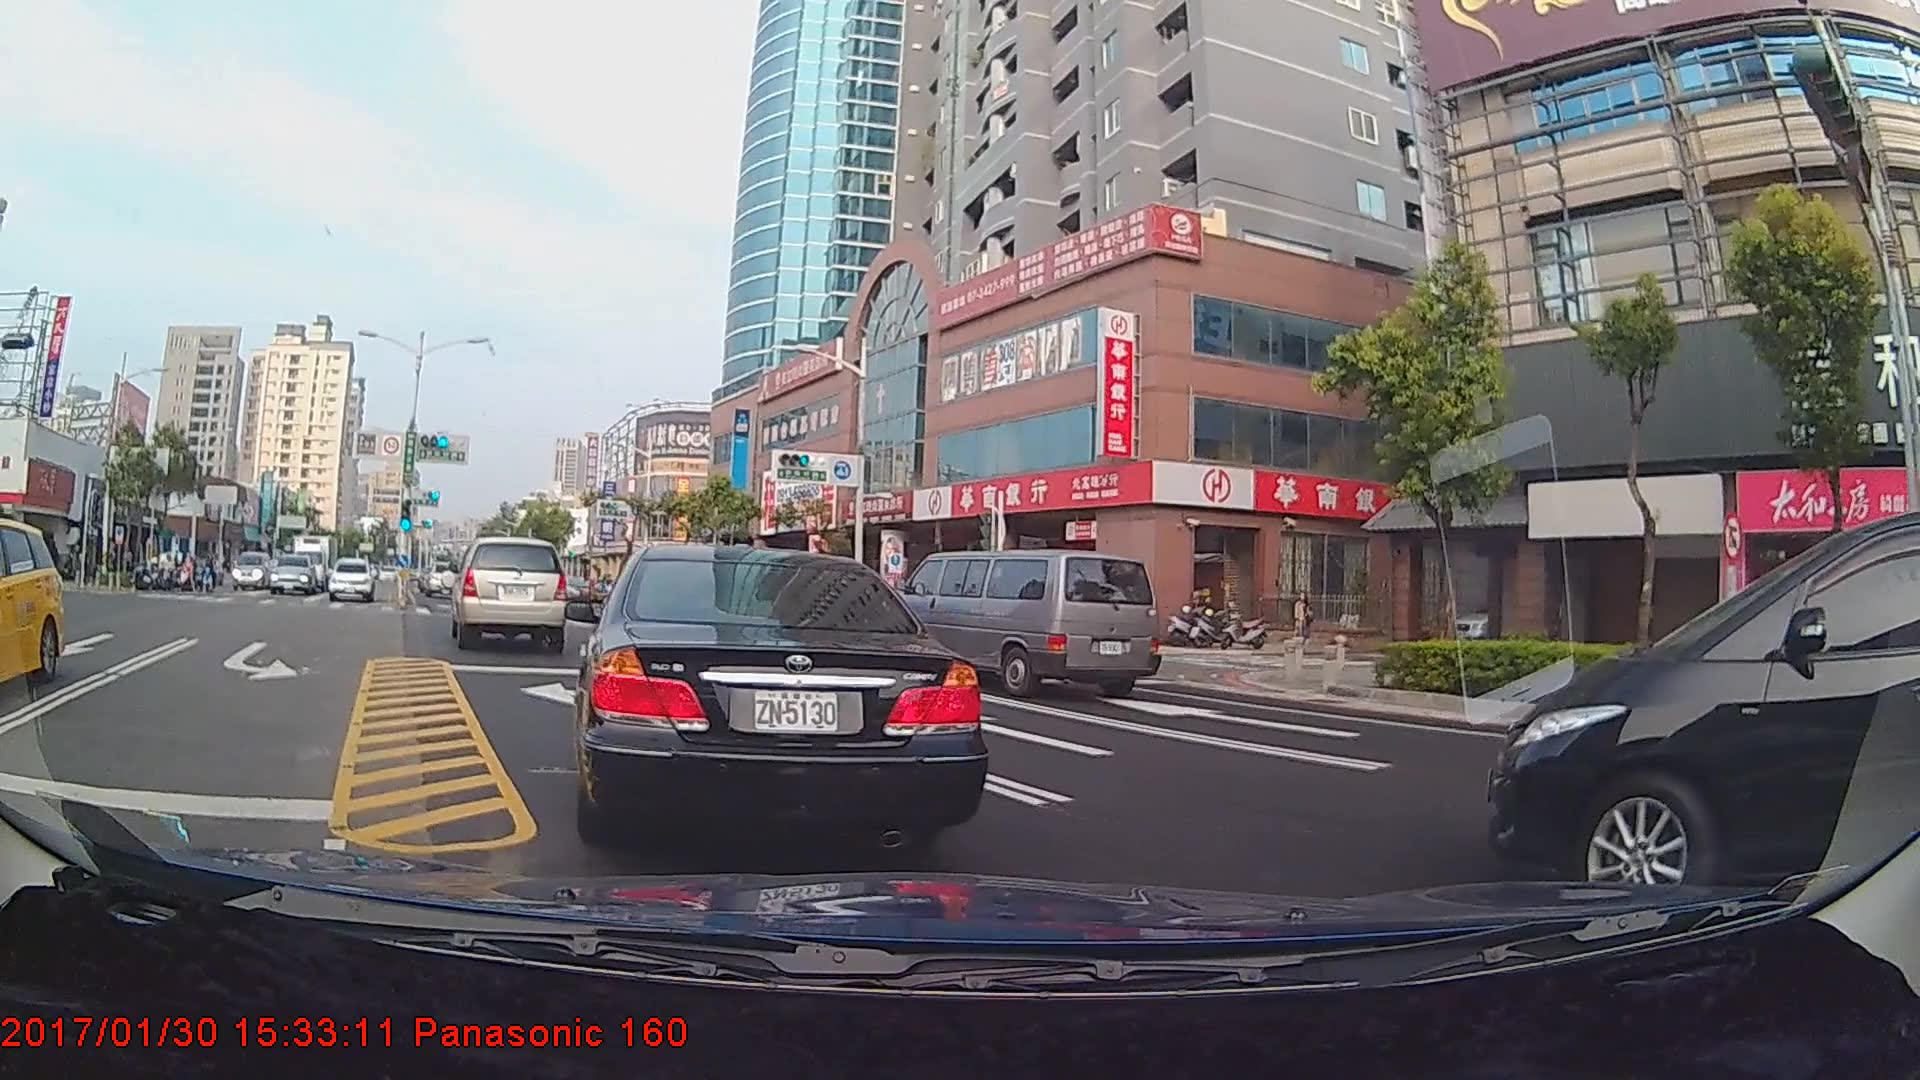pedestrian: (1289, 593, 1317, 657)
vehicle: (1457, 472, 1904, 898), (570, 538, 981, 846), (884, 547, 1163, 697), (451, 536, 567, 652), (0, 512, 64, 689), (289, 531, 343, 592), (268, 551, 323, 596), (328, 556, 375, 602), (232, 551, 270, 590), (423, 561, 459, 600)
